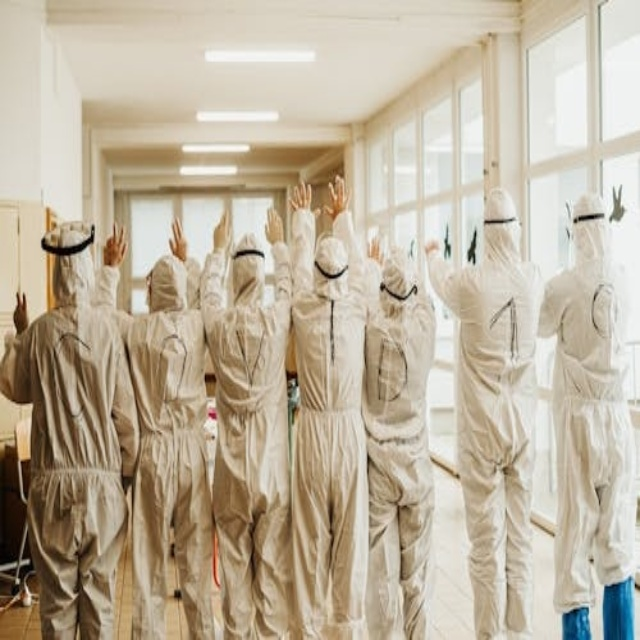Sin_guantes: (206, 206, 237, 254), (323, 175, 350, 221), (103, 220, 128, 267), (168, 217, 188, 263), (288, 180, 314, 214), (265, 206, 285, 244), (13, 290, 29, 334), (368, 233, 387, 267)
